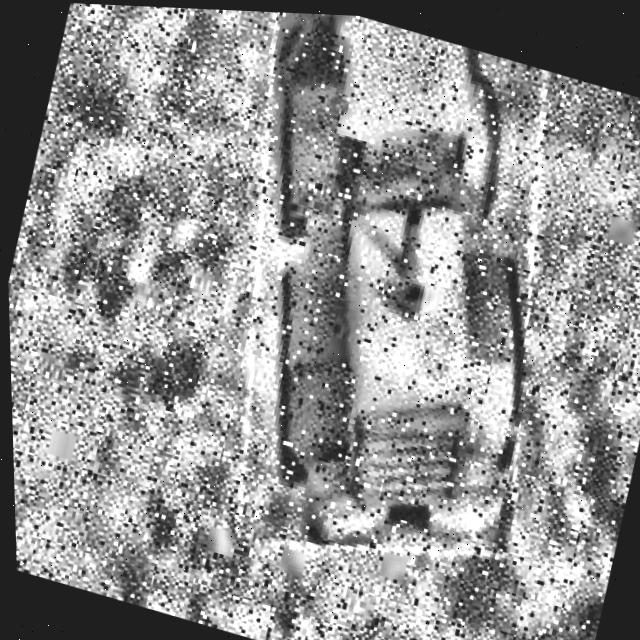buldozerpayloadergrader: (156, 5, 610, 593)
